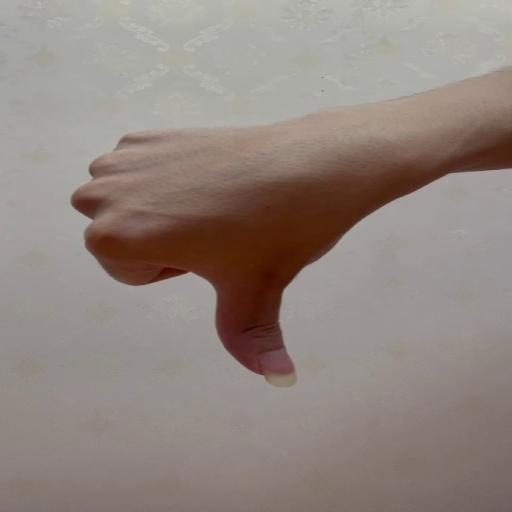thumbs_down: (70, 126, 398, 386)
